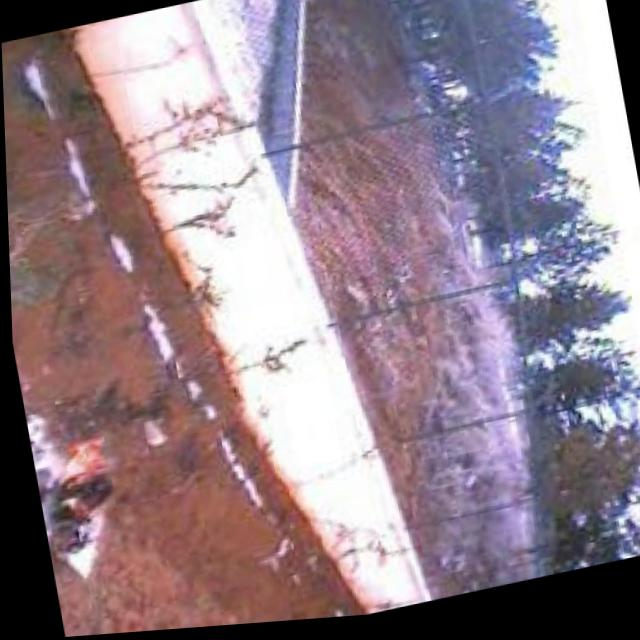Fire: (27, 428, 131, 556)
